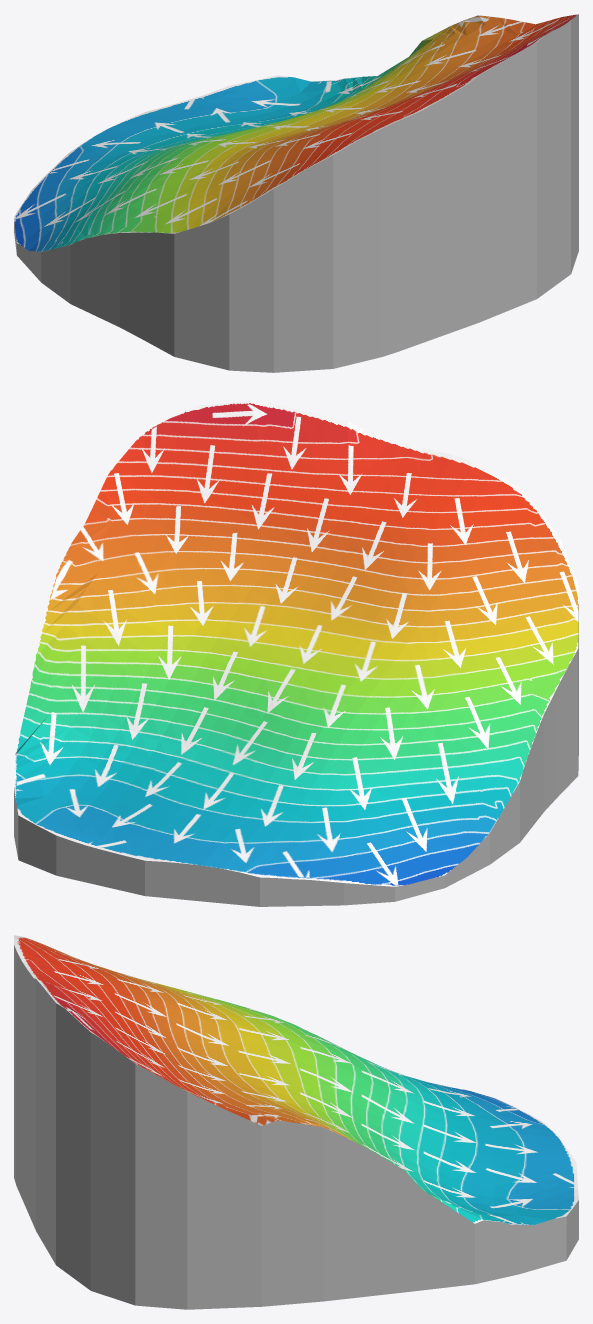
The picture shows the model from 3 angles, top to bottom: view 1: azimuth 30°, elevation 25°; view 2: azimuth 150°, elevation 25°; view 3: azimuth 270°, elevation 25°; orthographic projection. The views are drawn at different scales.
Size of the model in its own units: 4.16 by 2.31 by 4.49.
2 materials, 1 textured.
